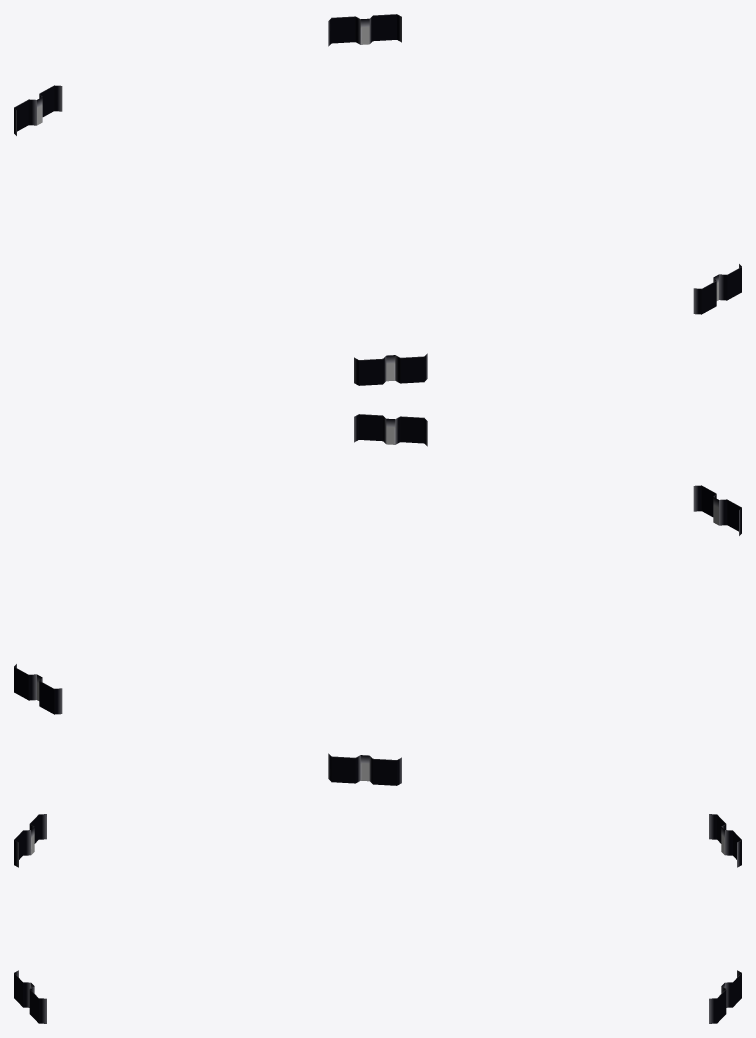
3 renders of one model, top to bottom at view 1: azimuth 30°, elevation 25°; view 2: azimuth 150°, elevation 25°; view 3: azimuth 270°, elevation 25°, orthographic.
Bounding box in the file's own units: 93.87 × 6 × 156.
2 materials, 2 textured.
